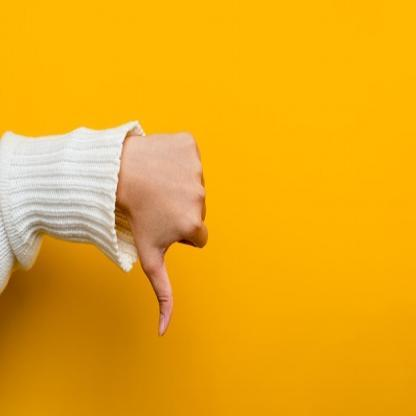thumb_down: (139, 123, 211, 342)
